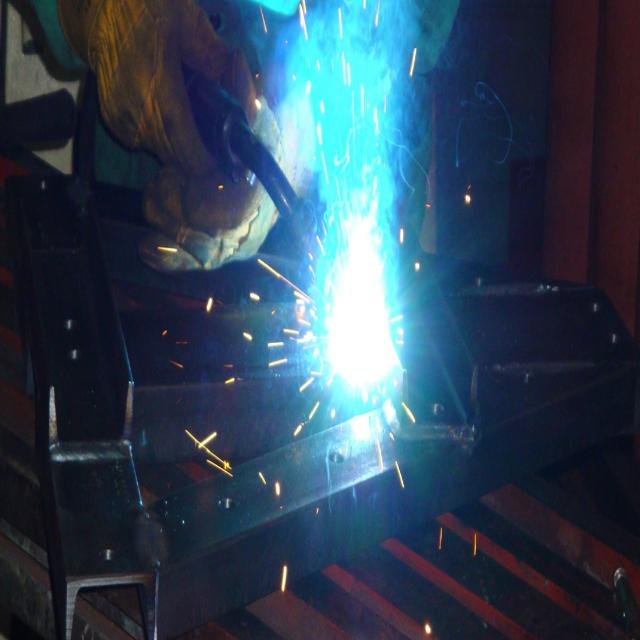welding: (316, 215, 406, 394)
